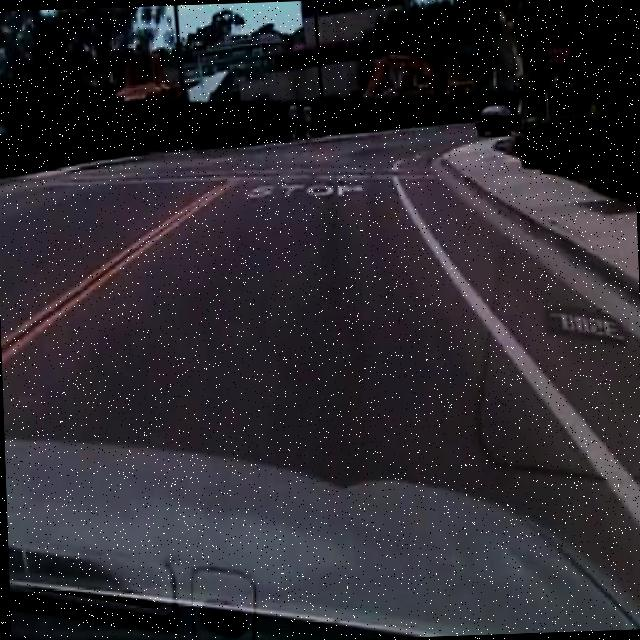Stop: (538, 32, 578, 82)
